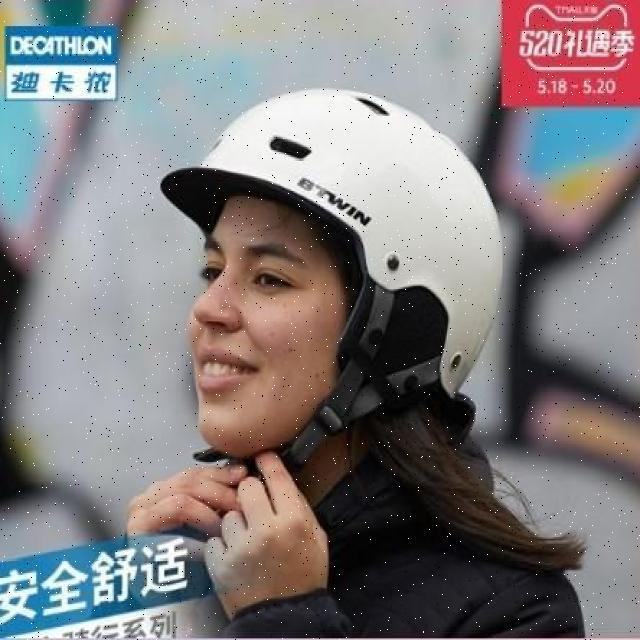helmet: (166, 88, 506, 472)
